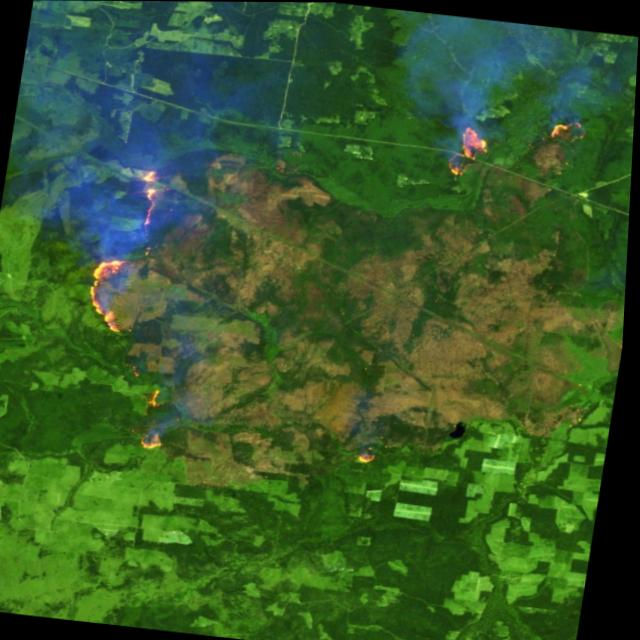fire: (60, 163, 210, 452), (439, 102, 592, 196), (353, 442, 391, 471)
